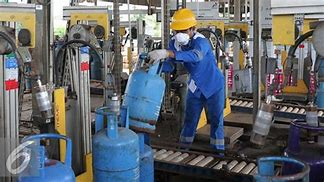blue_gas: (92, 104, 141, 182), (121, 53, 164, 134), (17, 133, 75, 182), (251, 155, 309, 182), (136, 132, 154, 182)
